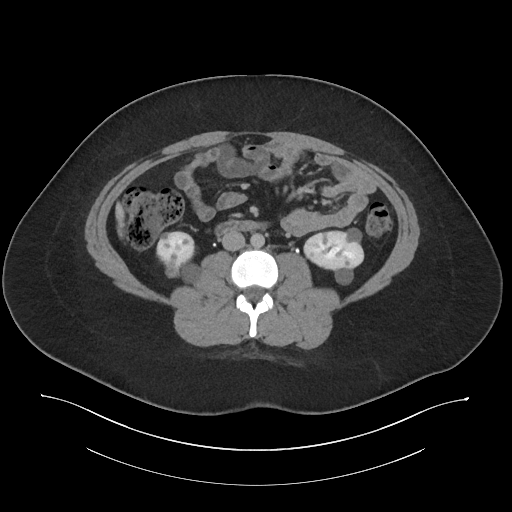Lesion: (159, 254, 181, 280)
